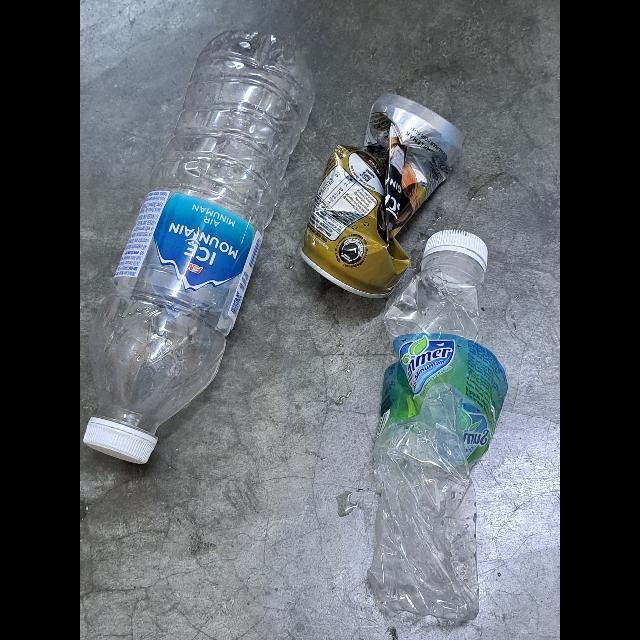garrafa plástica: (88, 27, 308, 439), (378, 272, 498, 624)
lata: (302, 86, 458, 308)
tampa plástica: (80, 411, 160, 471), (422, 228, 490, 284)
